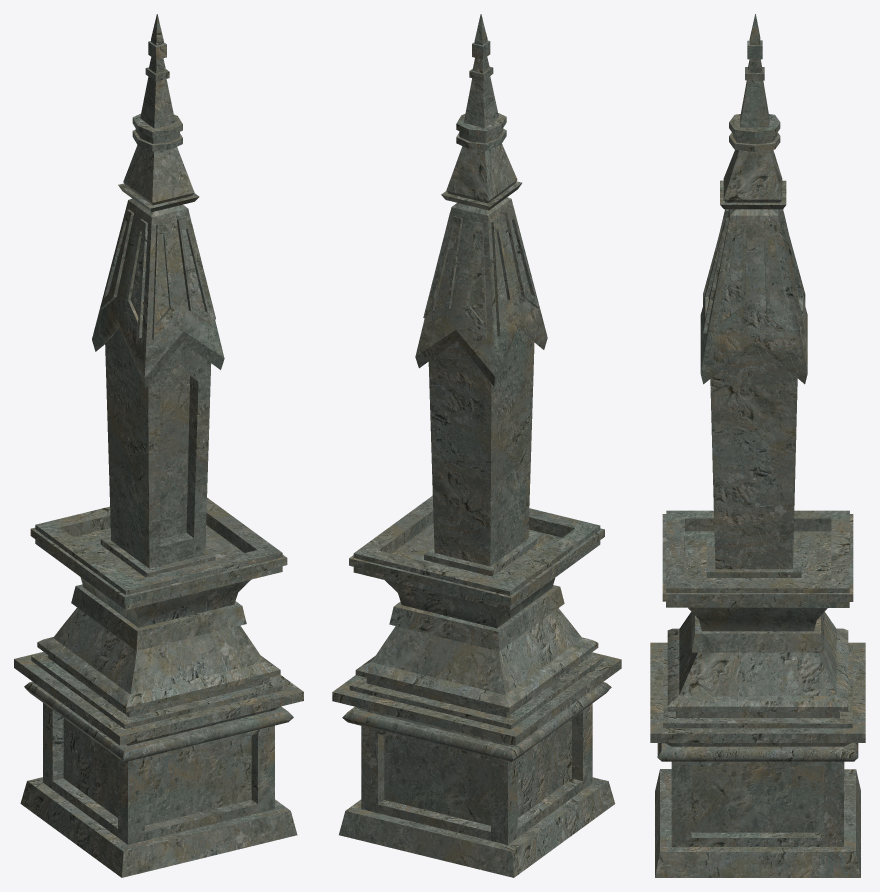
The model's file is landmark.fbx.
3 views of the same model, side by side, from view 1: azimuth 30°, elevation 25°; view 2: azimuth 150°, elevation 25°; view 3: azimuth 270°, elevation 25° (orthographic).
Parts seen in each view (by area): view 1: Pillar; view 2: Pillar; view 3: Pillar.
Part boxes in pixels (x1=…): Pillar: x1=14, y1=14, x2=303, y2=877; Pillar: x1=332, y1=14, x2=621, y2=877; Pillar: x1=650, y1=14, x2=865, y2=877.
Size of the model in its own units: 1.45 by 6.09 by 1.45.
Materials: 1 (1 with a texture image).
